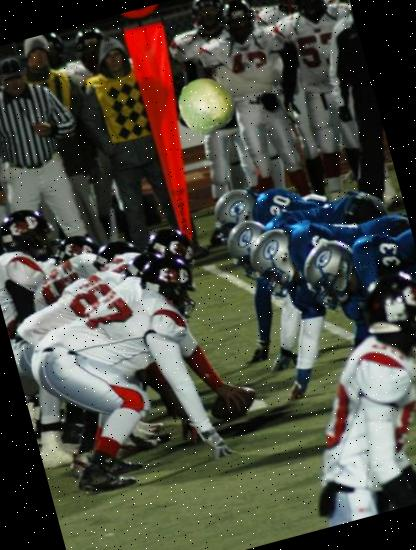Limes: (171, 70, 242, 141)
